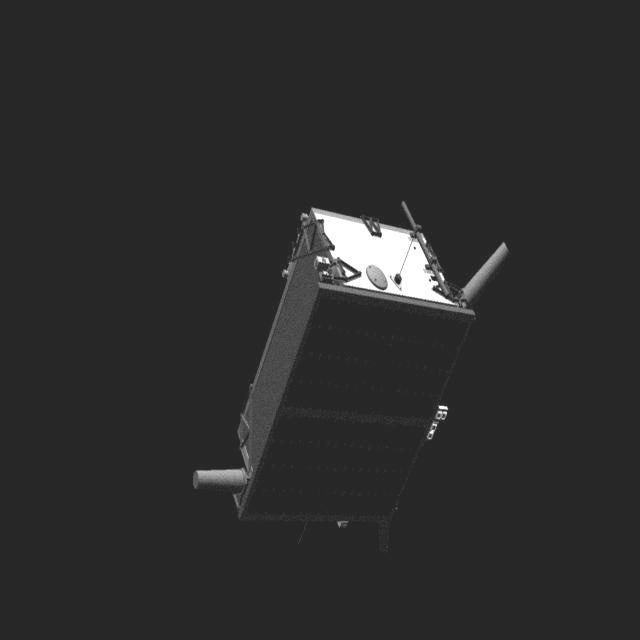satellite: (184, 192, 516, 560)
